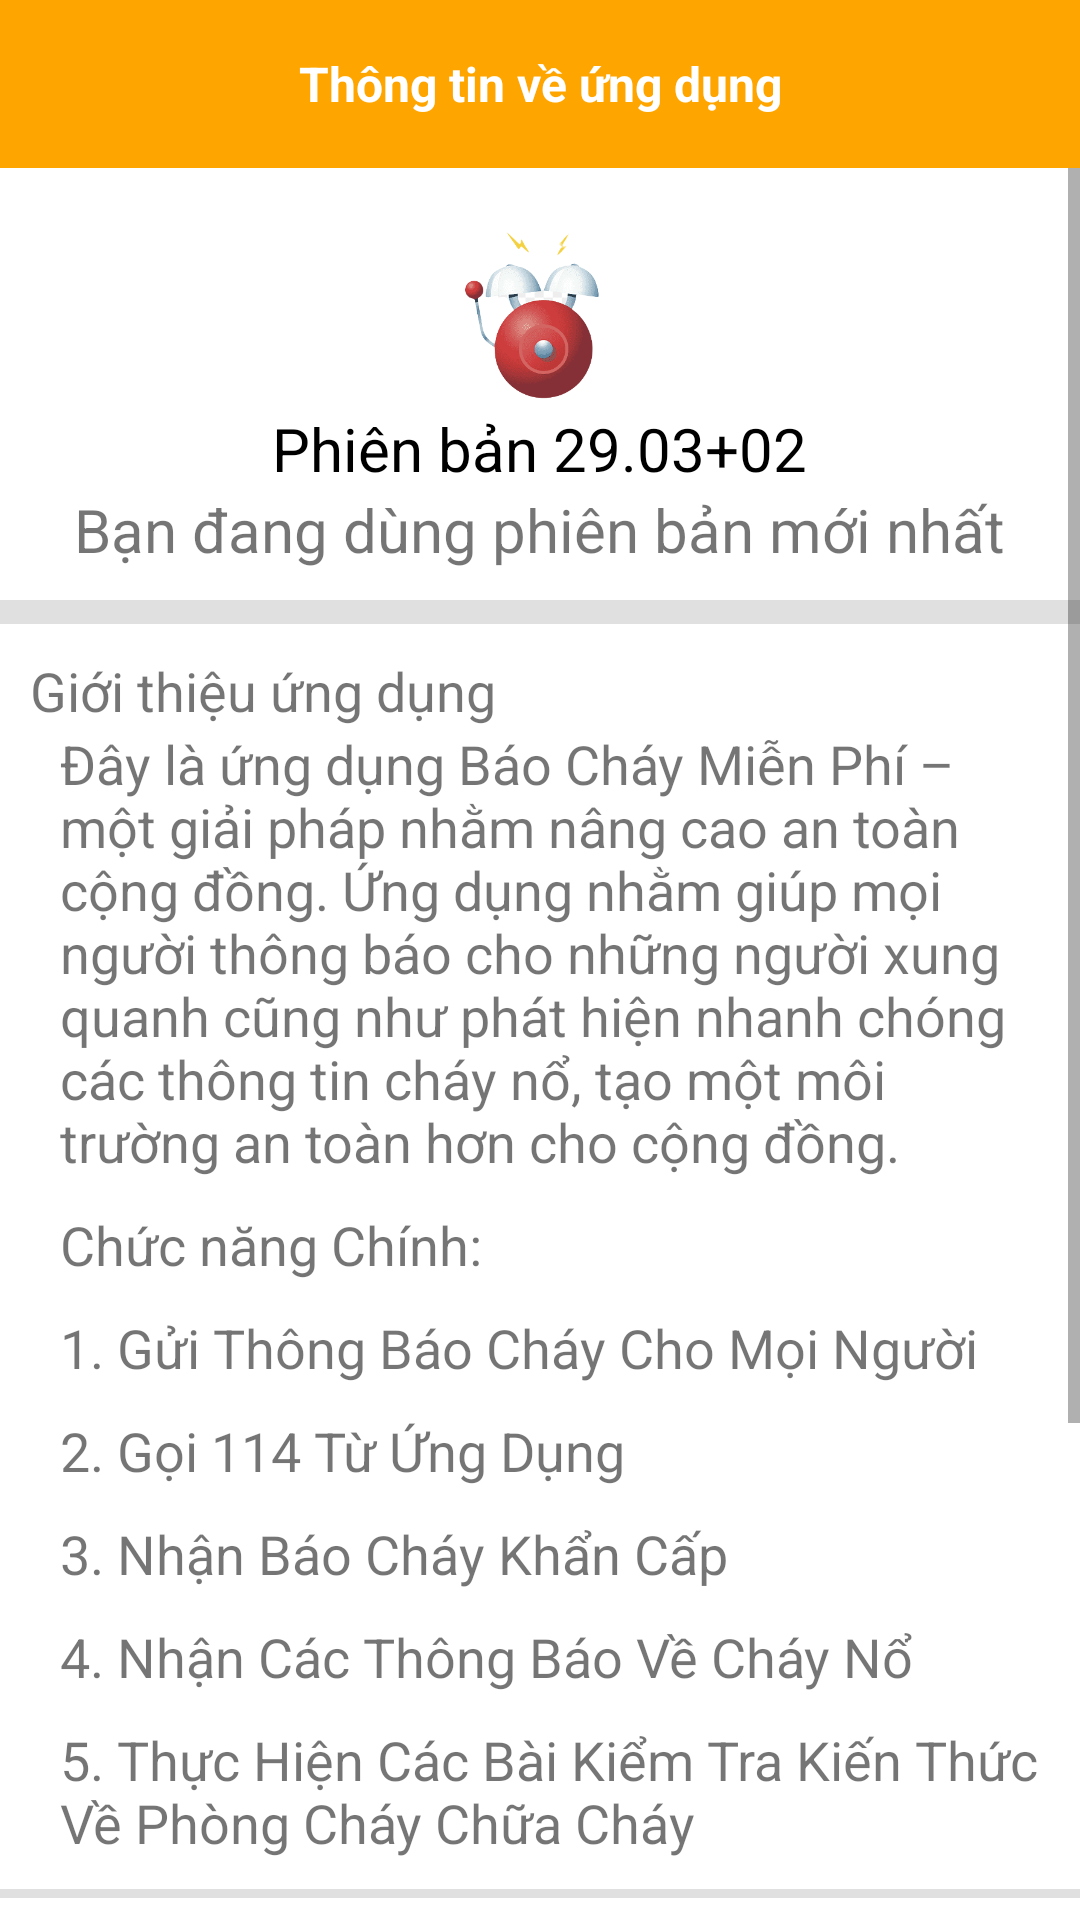

Icon click points for this 1080×1920 phone screenshot, format [x,y]:
fire bell: [532,315]
